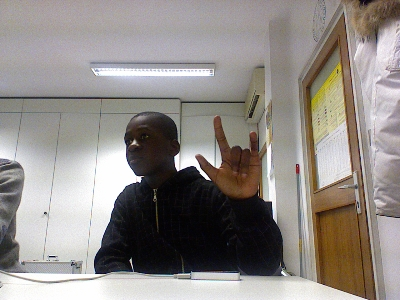我爱你: (194, 113, 264, 200)
